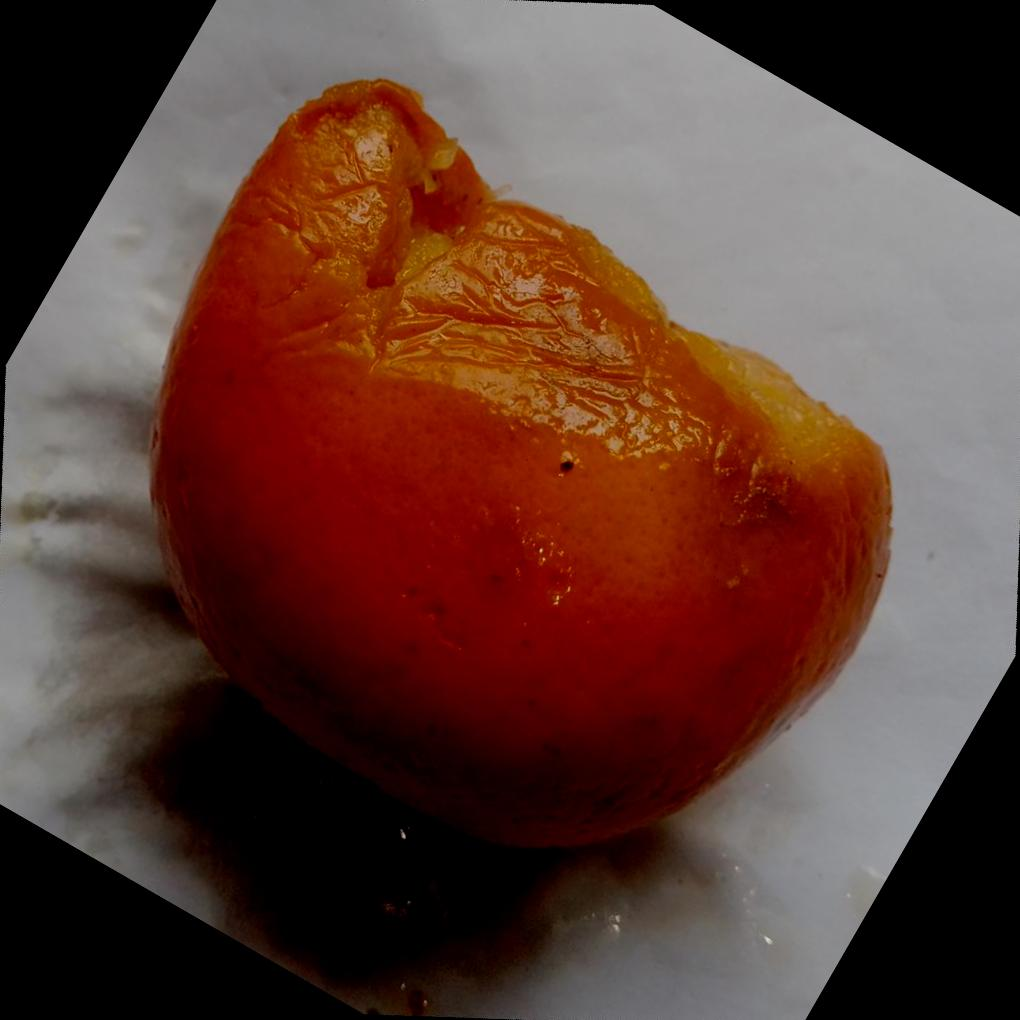FreshOrange: (149, 78, 897, 854)
